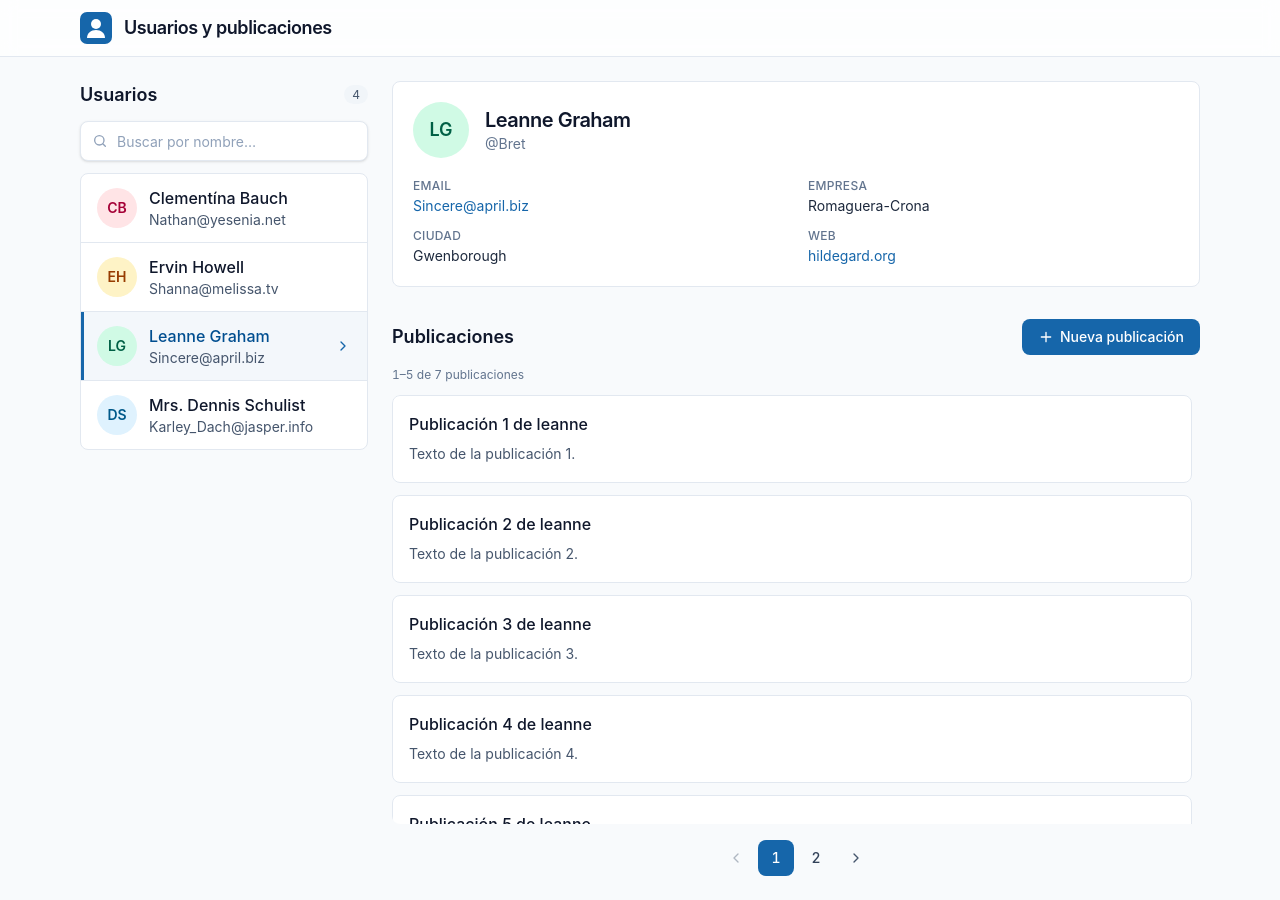
Test: Nueva publicación › si el envío falla, muestra el error y conserva lo escrito
Expected: the list named "Publicaciones" is shown, [392,395,1200,824]
Click the button "Nueva publicación" at (1111, 337), box [1022,319,1200,355]
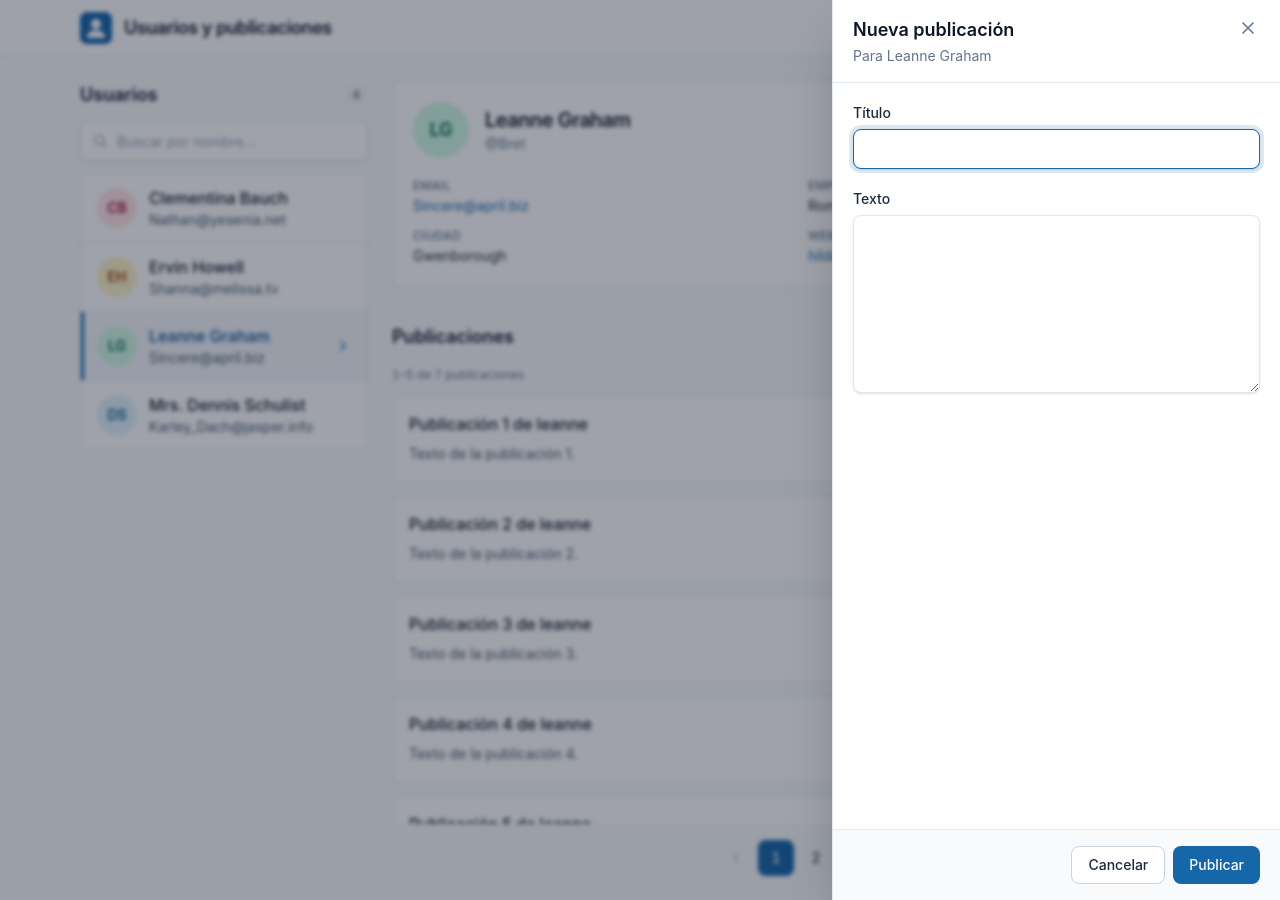
Type "No se perderá" into the field labelled "Título" at (1056, 149), box [853,129,1260,169]
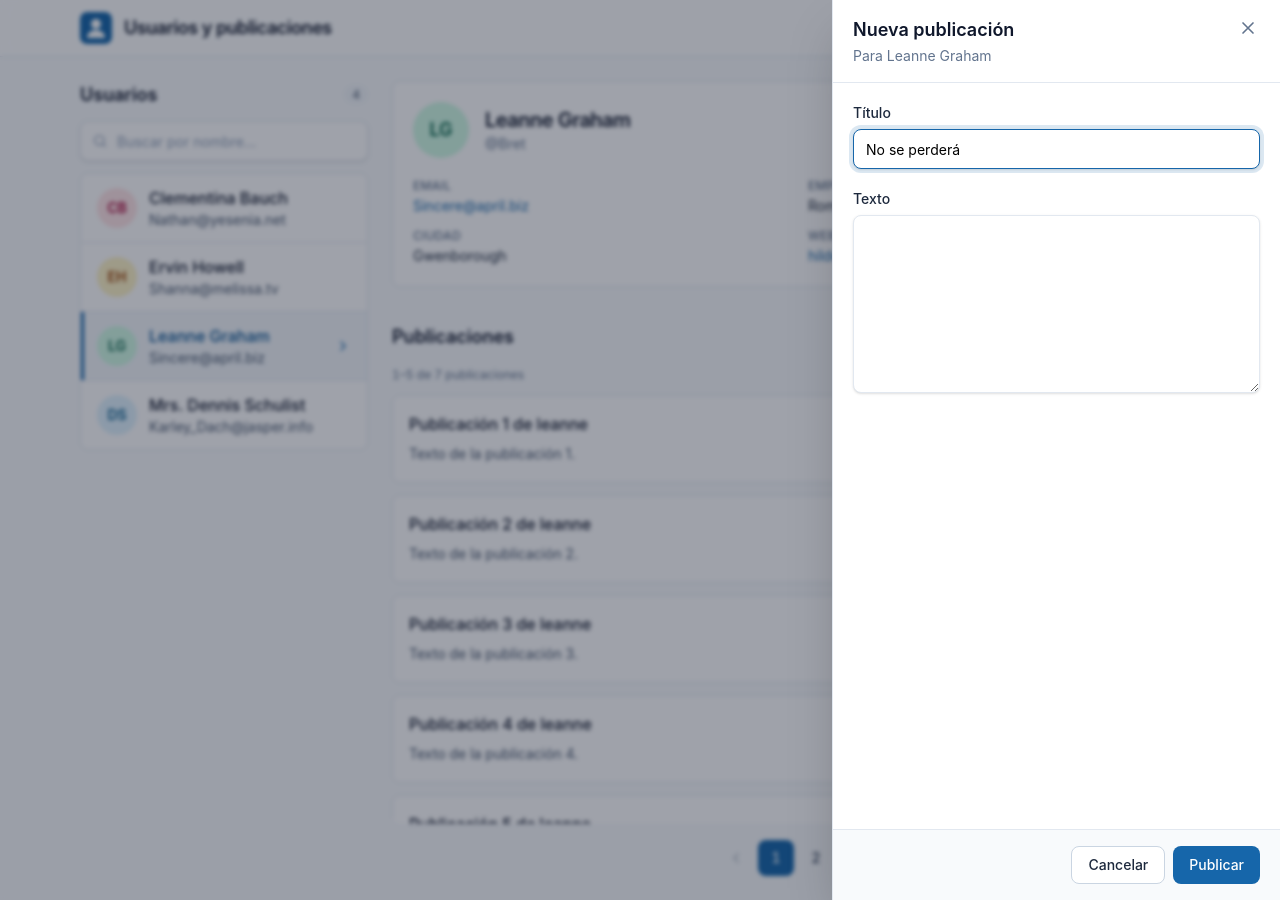
Type "Este texto sigue aquí." into the text box labelled "Texto" at (1056, 304), box [853,215,1260,393]
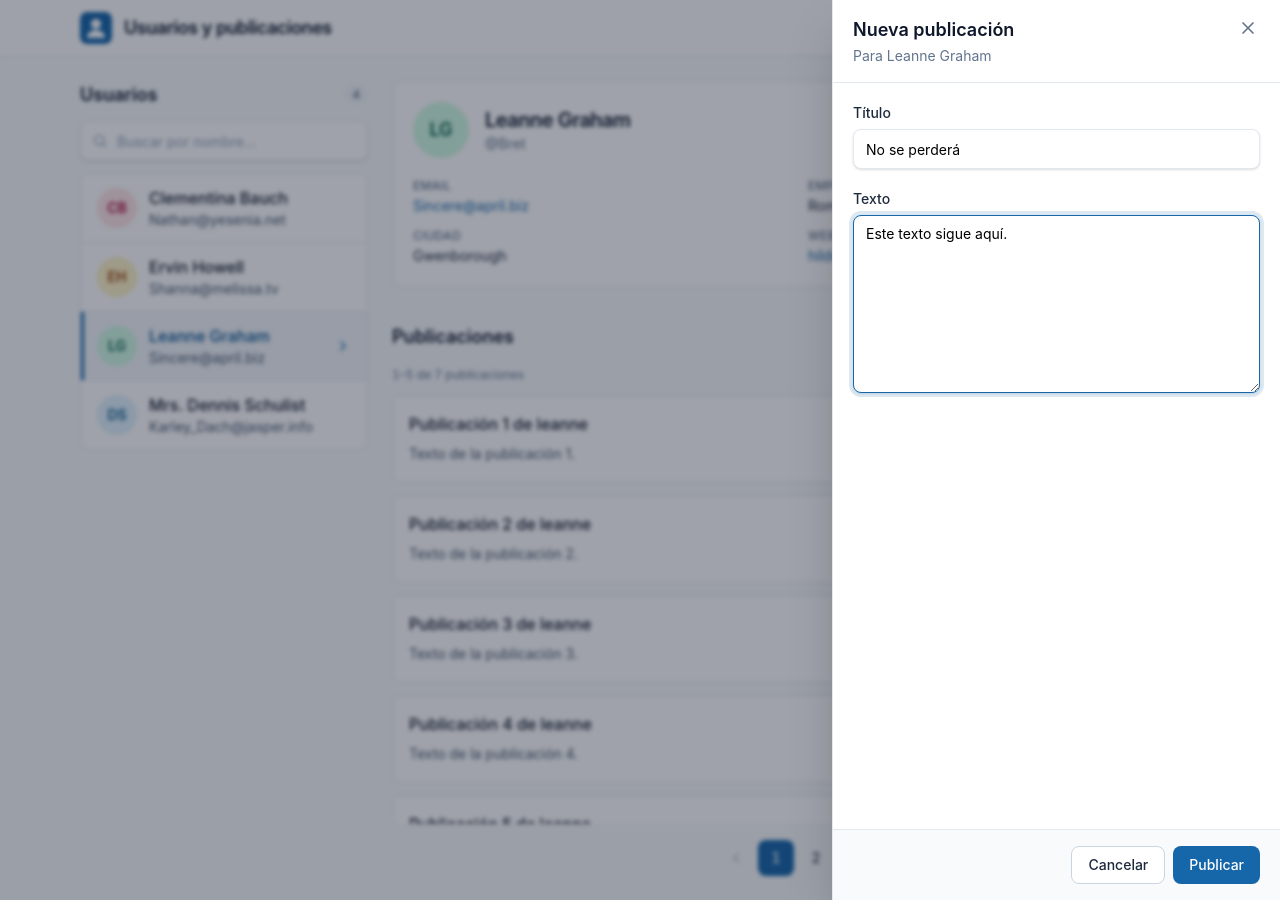
Click the button "Publicar" at (1217, 865), box [1173,846,1260,884]
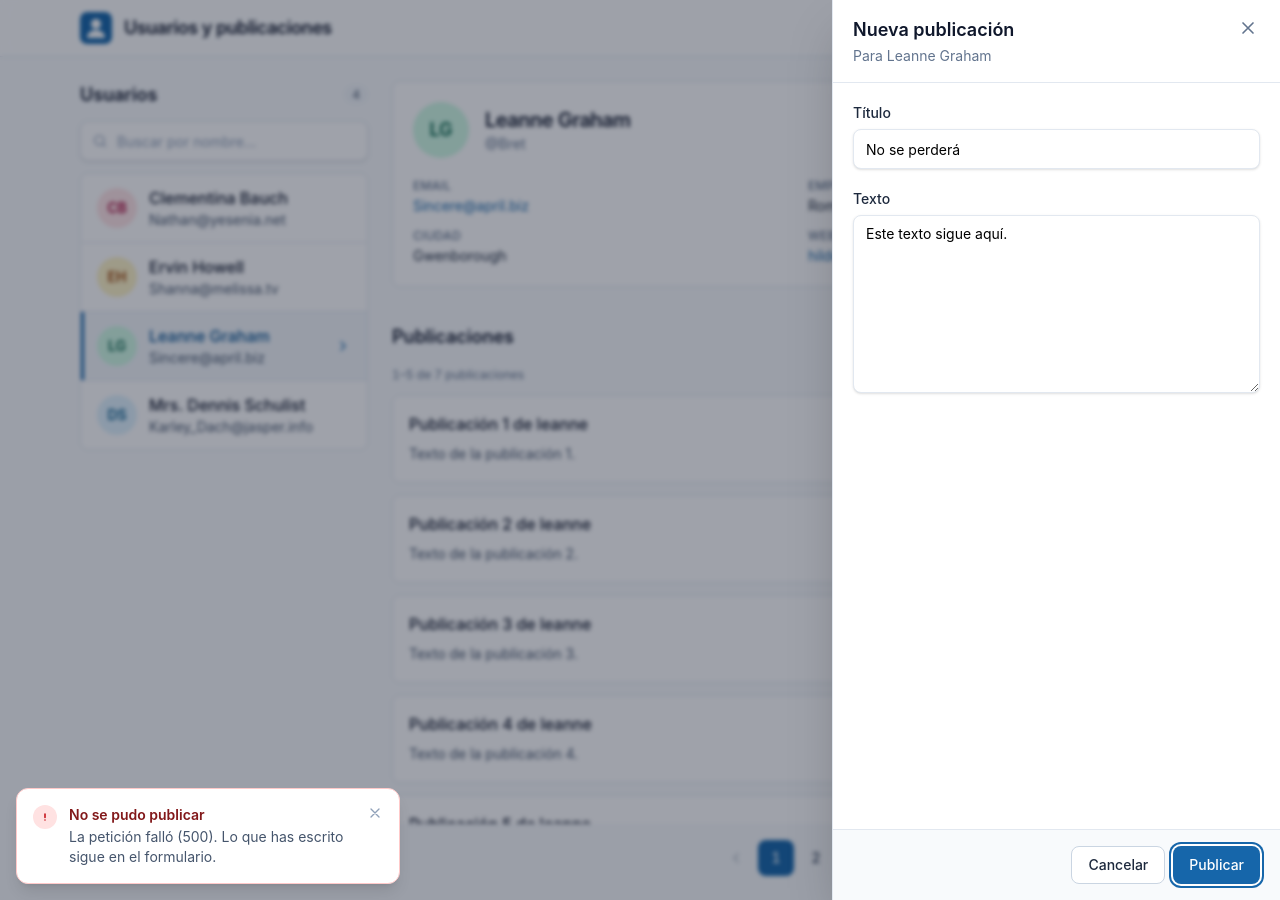
Expected: the text "No se perderá" is not shown
Expected: the message shows "No se pudo publicar", [69,806,204,823]
Expected: the message shows "La petición falló (500).", [69,828,343,865]
